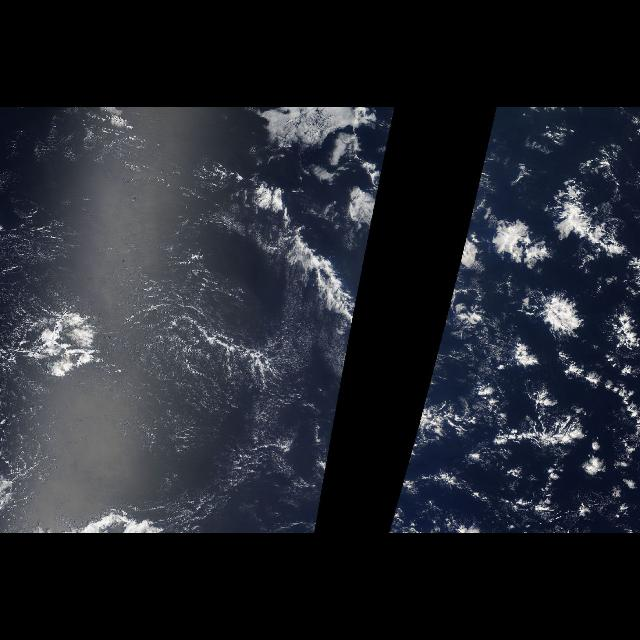Flower: (418, 185, 630, 428), (323, 185, 383, 368)
Sugar: (100, 170, 306, 528)
